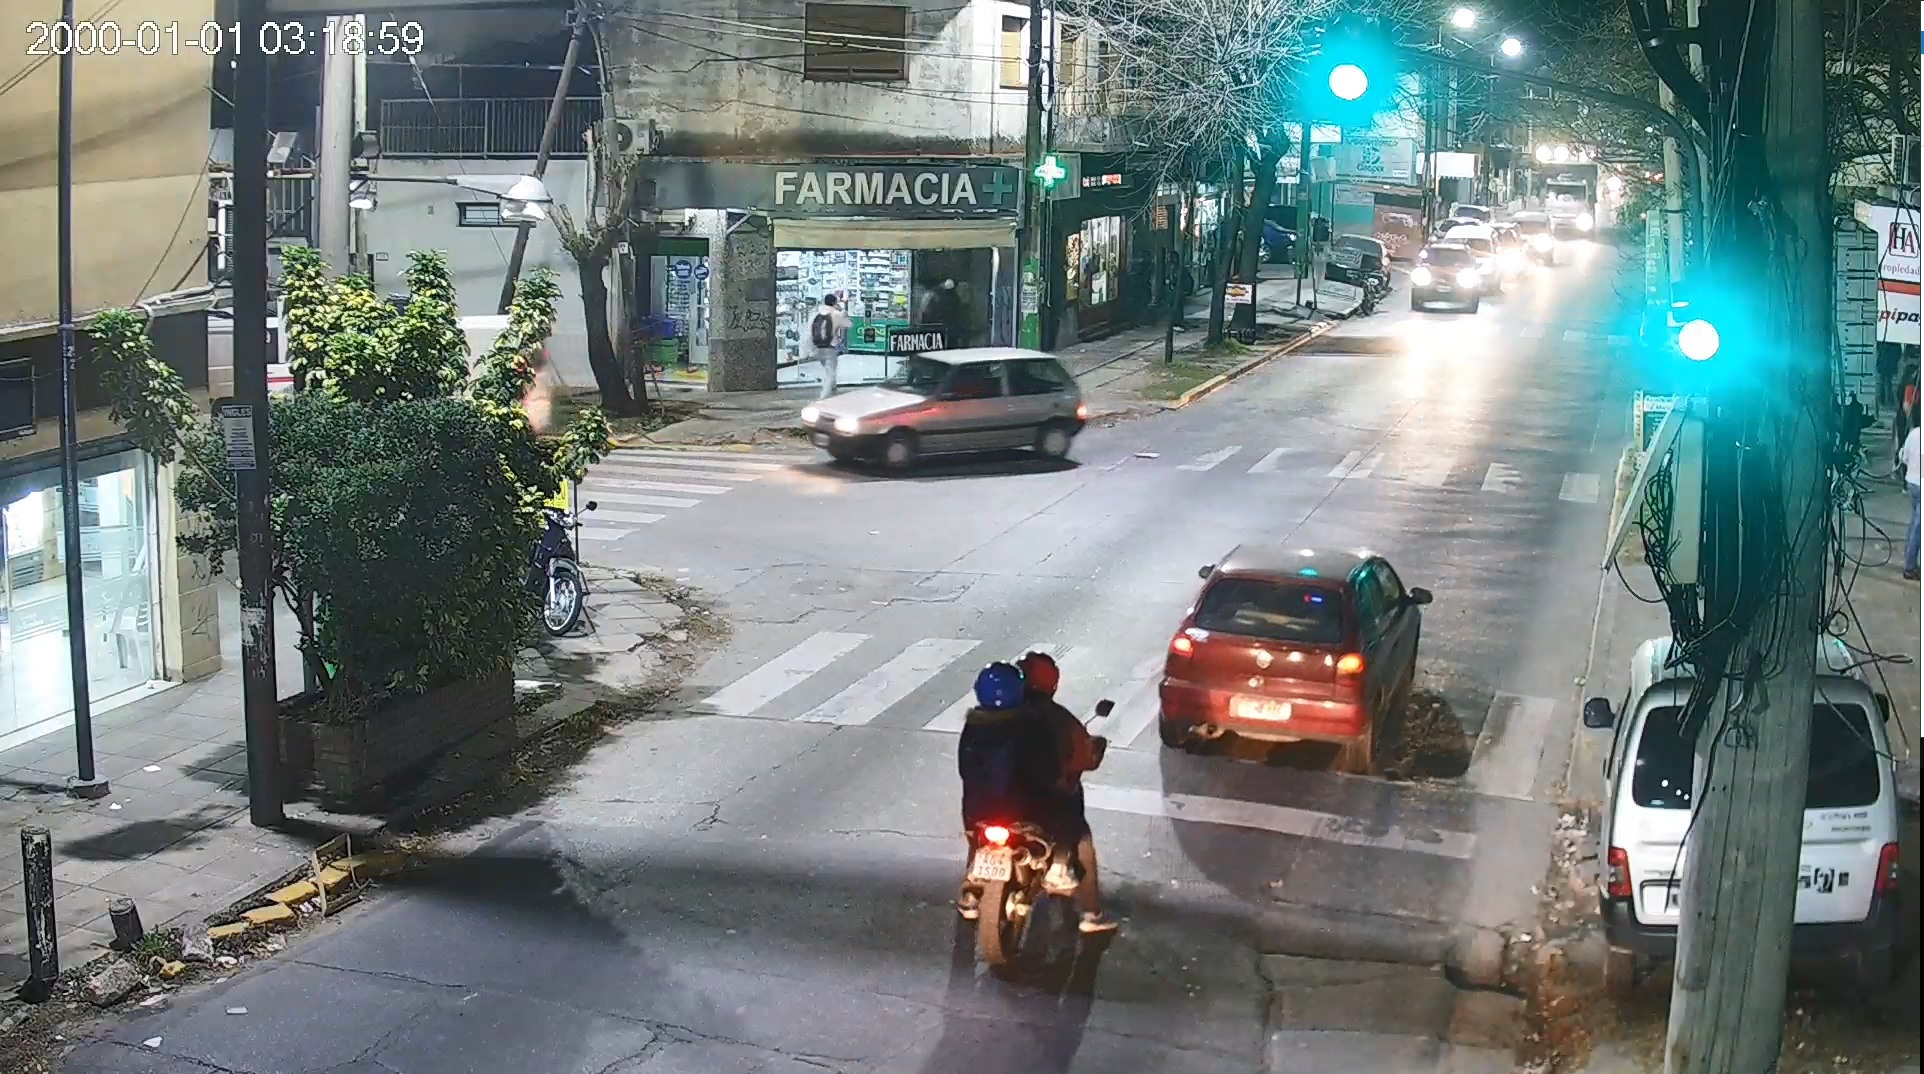car: (1571, 626, 1916, 1007), (1158, 526, 1435, 789), (784, 334, 1094, 477)
motorcycle: (940, 643, 1144, 982)
